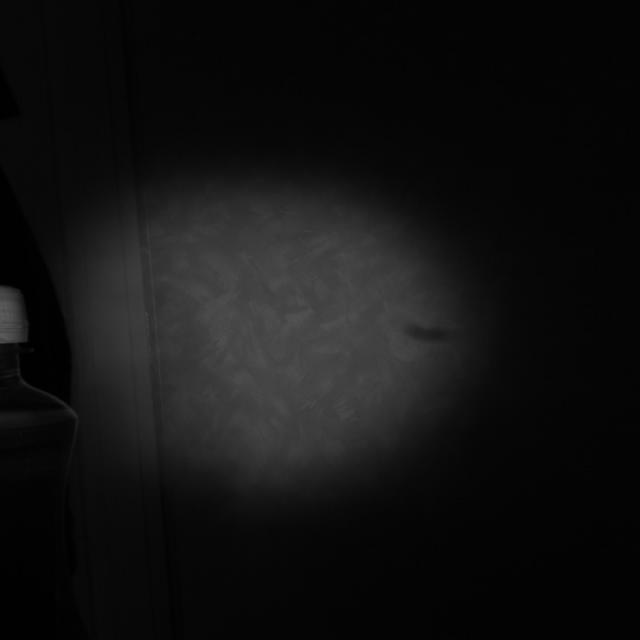Good: (0, 282, 35, 349)
